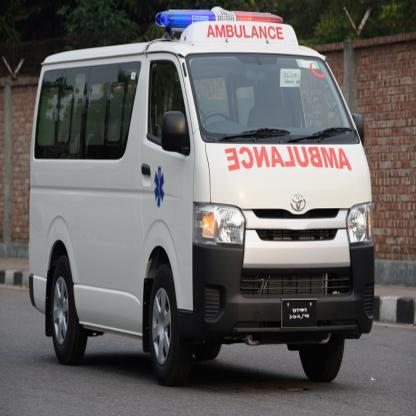Ambulance - v1 Ambulance last generate: (25, 0, 380, 389)
